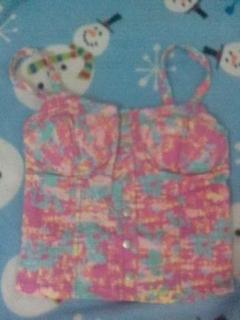sling dress: (9, 44, 237, 304)
